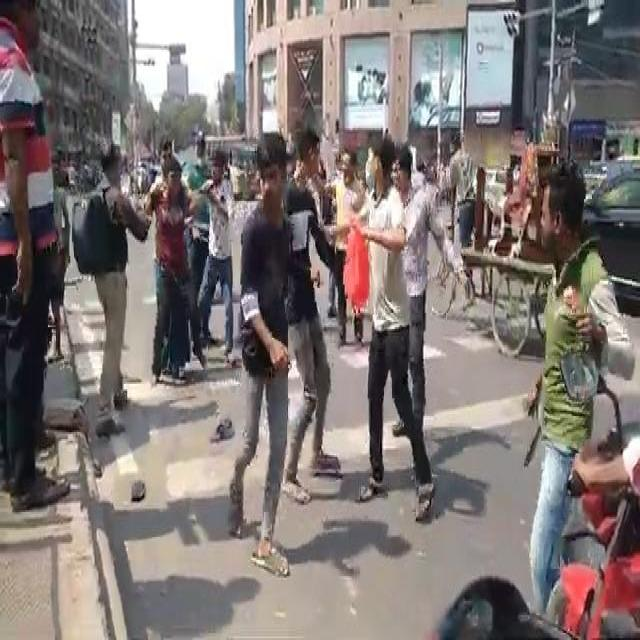fight: (498, 152, 629, 540), (288, 133, 422, 498), (227, 132, 290, 578), (130, 111, 229, 358)
